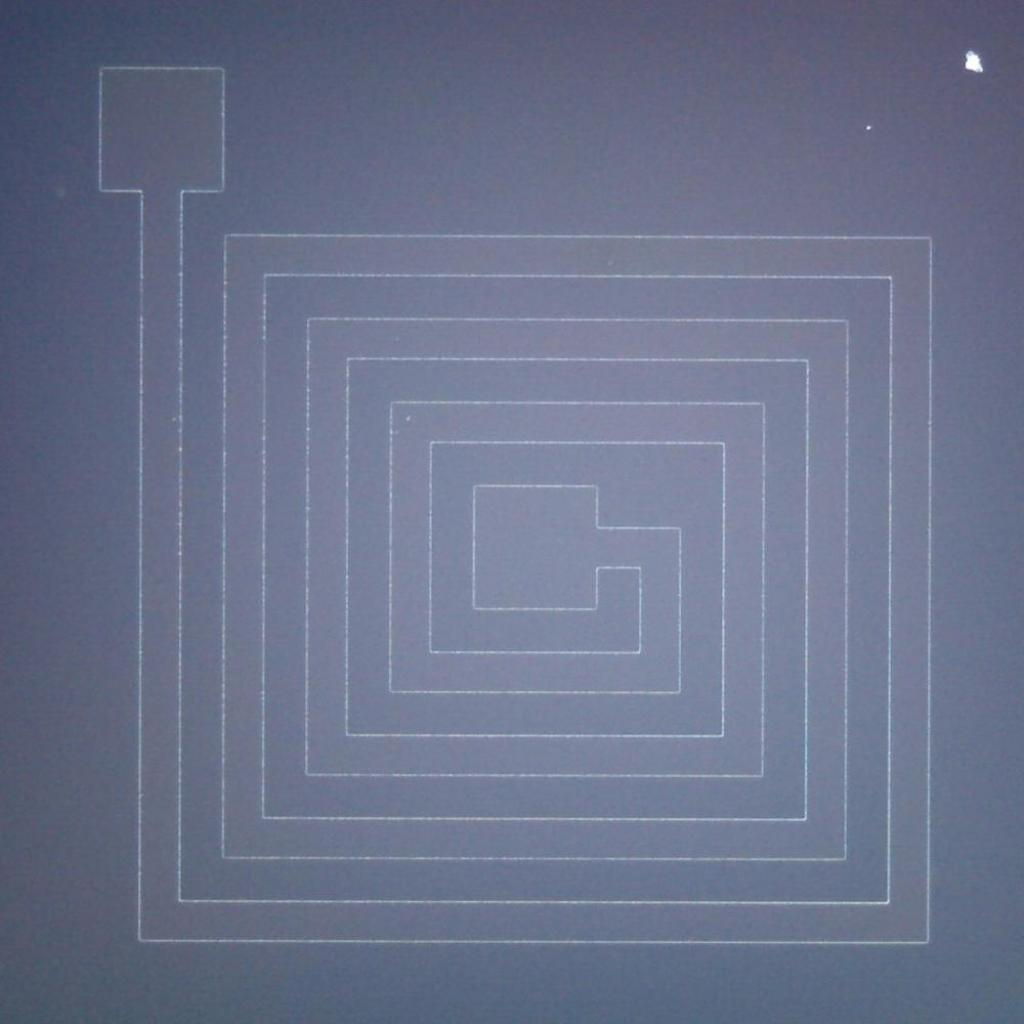Bdot: (963, 51, 985, 73)
dot: (866, 126, 872, 130), (406, 416, 410, 421), (172, 418, 176, 422)
